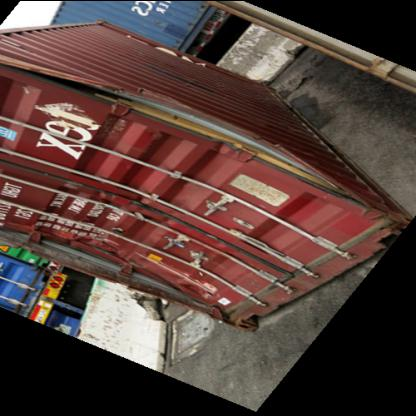Damage: (29, 67, 244, 137)
